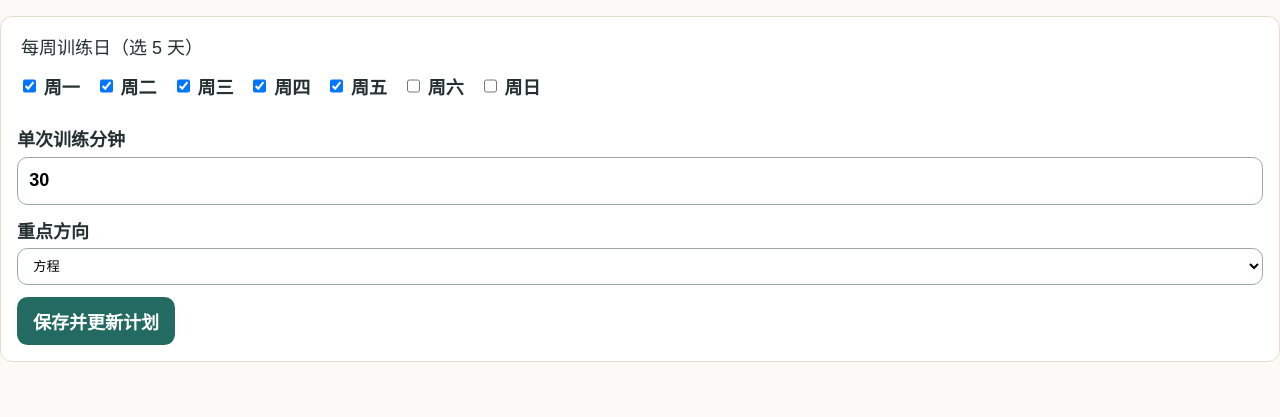
Test: blocks four training days before submitting
Click the checkbox labelled "周五" at (337, 86), box [330,62,343,110]
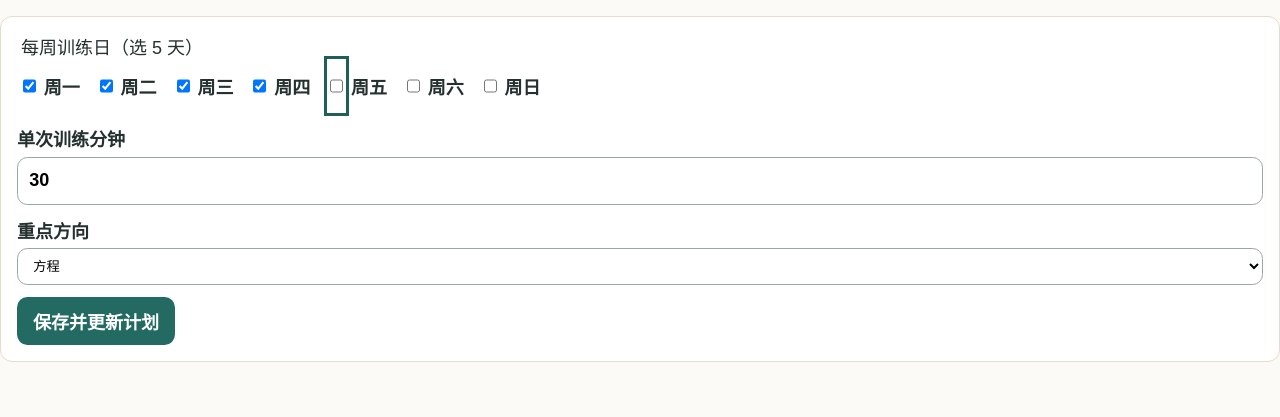
Click the button "保存并更新计划" at (96, 321), box [17,297,175,345]
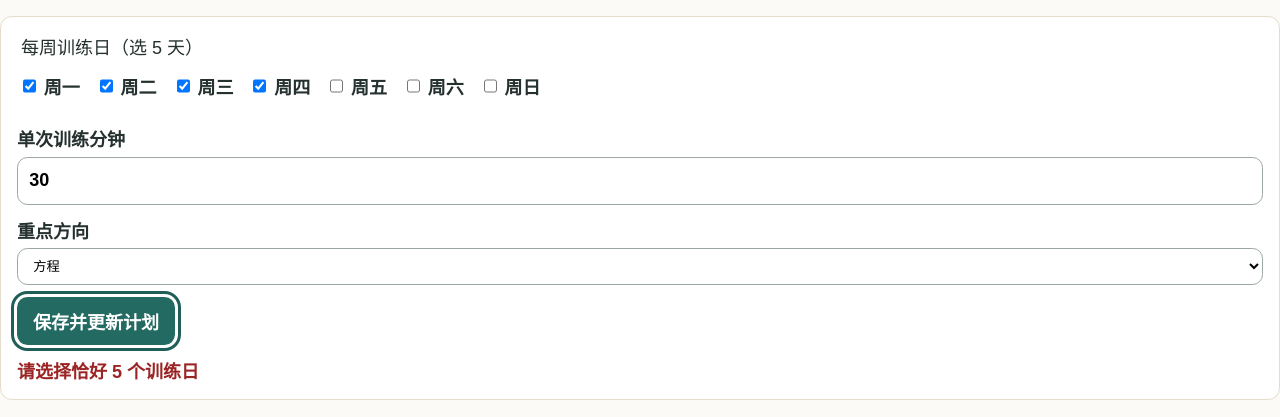
Check: the message shows "恰好 5 个训练日", box [17,362,199,382]
